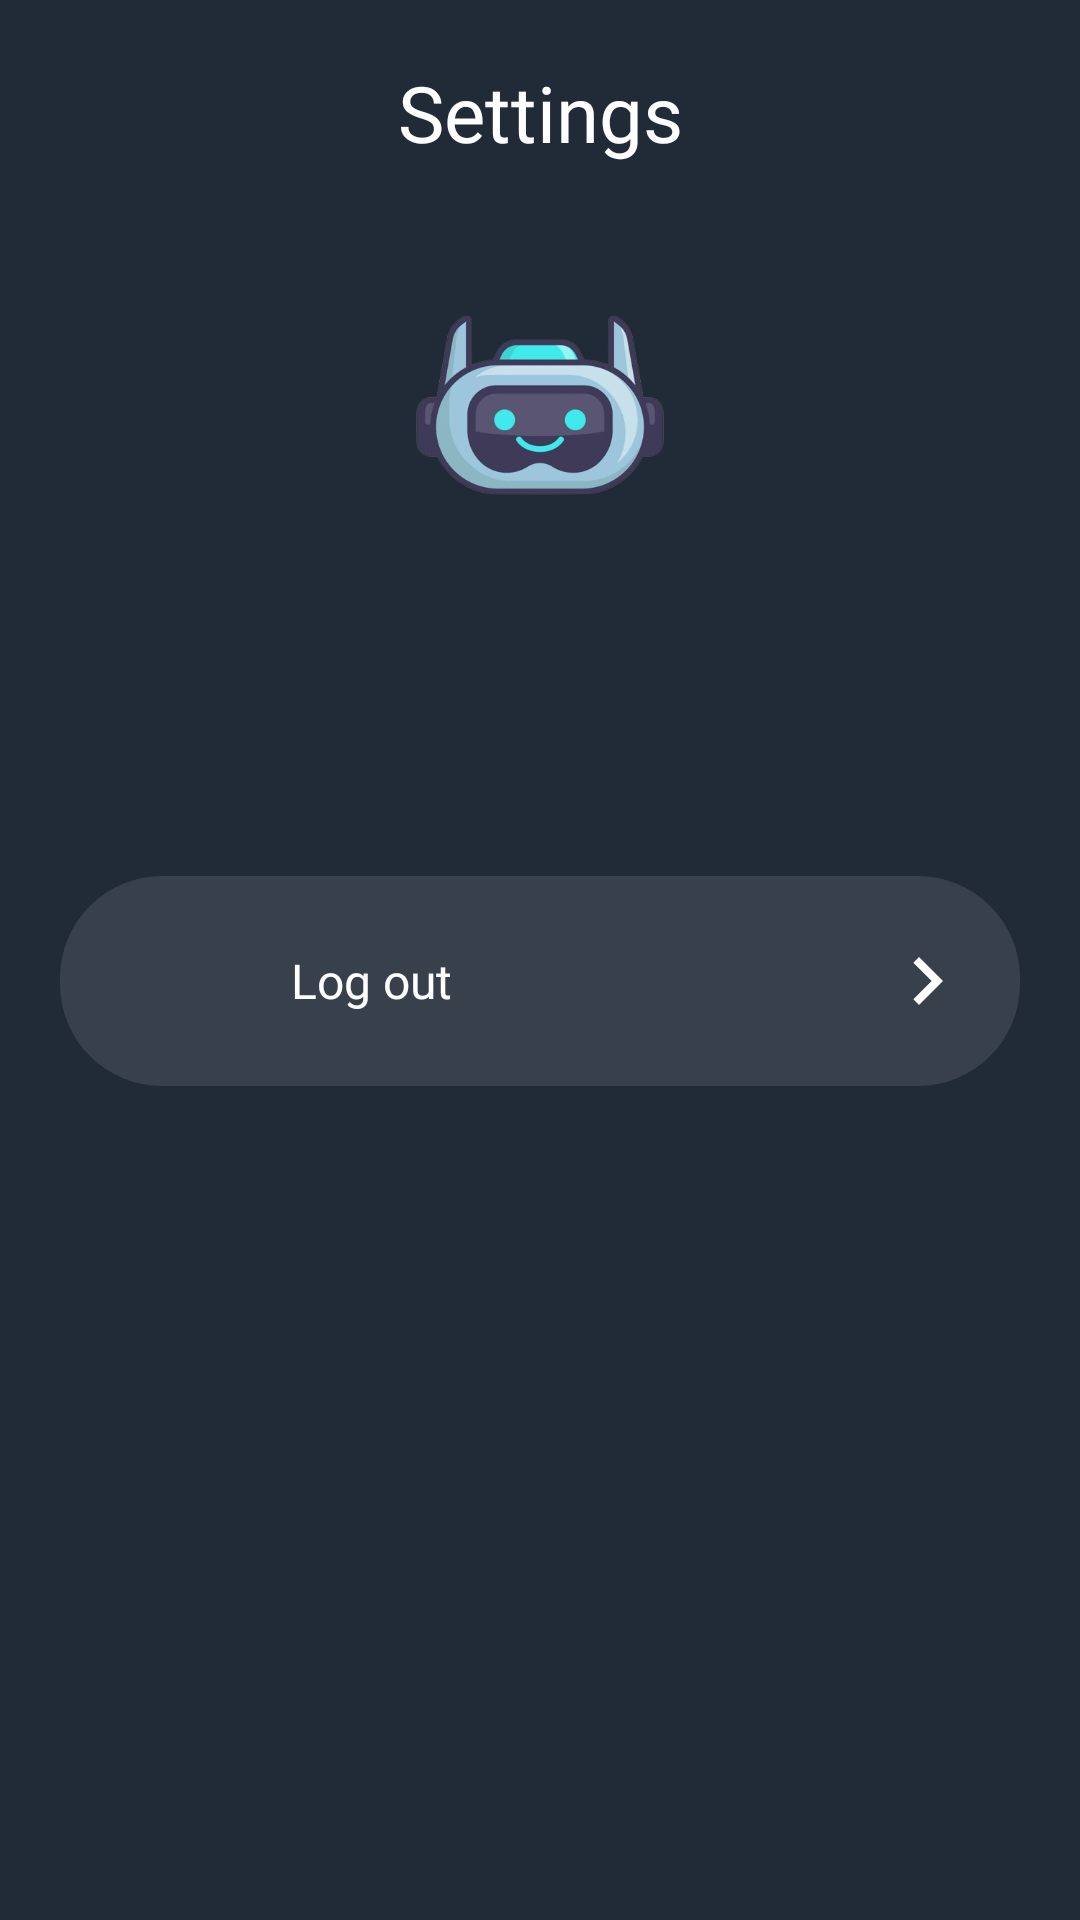

Icon bounding boxes for this 1080px×1920px phone screenshot, format (x1, y1, x2, y2):
arrow right: (913, 957, 943, 1005)
